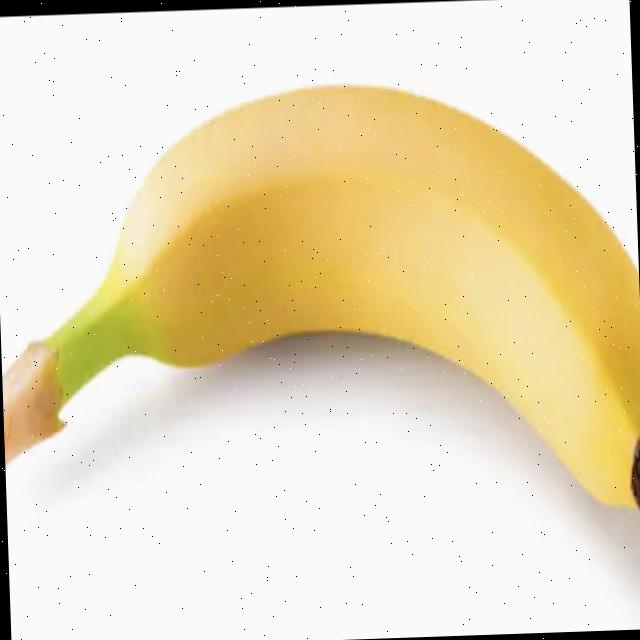Ripe: (0, 59, 640, 587)
